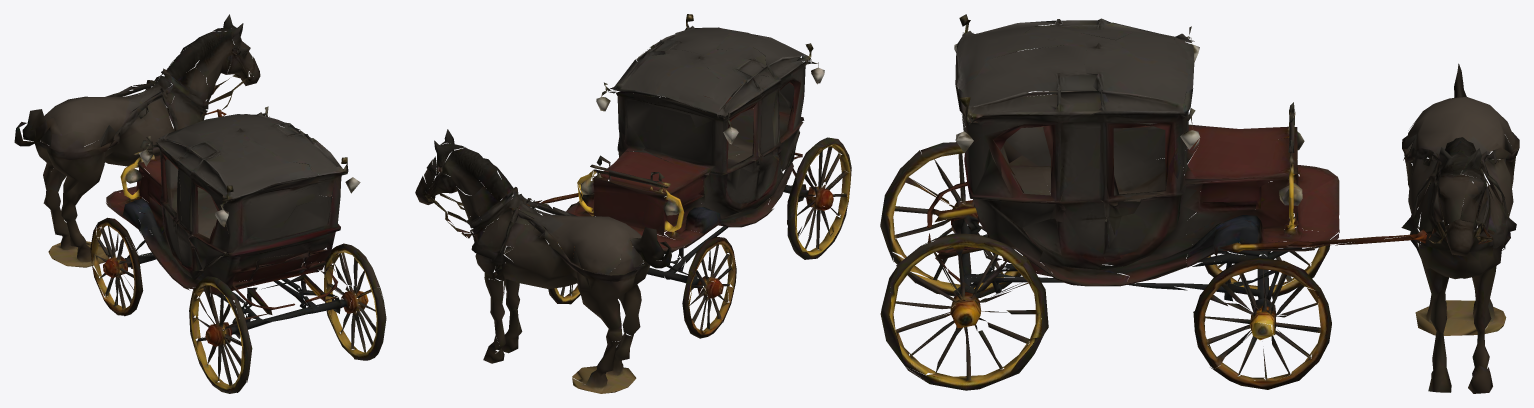
File: cp_carriage.glb
3 views of the same model, side by side, from view 1: azimuth 30°, elevation 25°; view 2: azimuth 150°, elevation 25°; view 3: azimuth 270°, elevation 25° (orthographic). The views are drawn at different scales.
Visible parts, largest first — view 1: tripo_node_b8dbcd72-80a2-4d53-ba87-a6b455dbacda; view 2: tripo_node_b8dbcd72-80a2-4d53-ba87-a6b455dbacda; view 3: tripo_node_b8dbcd72-80a2-4d53-ba87-a6b455dbacda.
Part boxes in pixels (box(x1,y1,x2,y2)): tripo_node_b8dbcd72-80a2-4d53-ba87-a6b455dbacda: box(14, 14, 386, 393); tripo_node_b8dbcd72-80a2-4d53-ba87-a6b455dbacda: box(415, 14, 851, 393); tripo_node_b8dbcd72-80a2-4d53-ba87-a6b455dbacda: box(880, 14, 1519, 393).
Size of the model in its own units: 0.6315 by 0.5211 by 1.
Materials: 1 (1 with a texture image).
